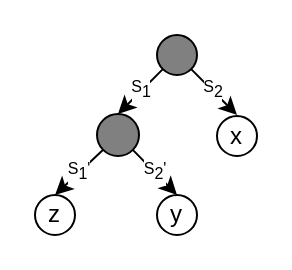
This 292x270 diagram has some shape labels left out. Each missing label, with the centre of its shape:
"X 1 =8" goes at [117,134].
"X 3 =6" goes at [176,54].
